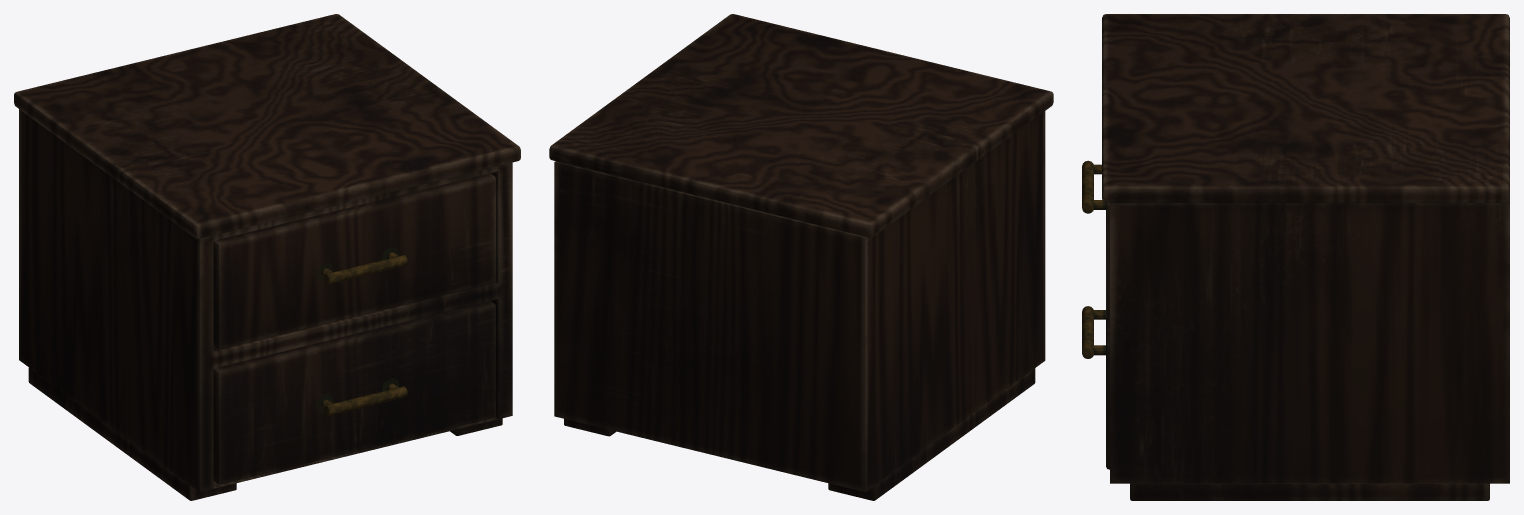
Rendered from attic_smallbox.glb.
3 views of the same model, side by side, from view 1: azimuth 30°, elevation 25°; view 2: azimuth 150°, elevation 25°; view 3: azimuth 270°, elevation 25° (orthographic). The views are drawn at different scales.
Visible parts, largest first — view 1: Body, Drawer0, Drawer1, Drawer1Pull, Drawer0Pull; view 2: Body; view 3: Body, Drawer0Pull, Drawer1Pull, Drawer0.
Boxes of the visible parts, bbox=[...] form: Body: bbox=[14, 14, 520, 500]; Drawer0: bbox=[213, 301, 495, 484]; Drawer1: bbox=[213, 173, 495, 349]; Drawer1Pull: bbox=[316, 246, 407, 284]; Drawer0Pull: bbox=[316, 378, 407, 415]; Body: bbox=[549, 14, 1053, 500]; Body: bbox=[1102, 14, 1509, 500]; Drawer0Pull: bbox=[1082, 306, 1105, 358]; Drawer1Pull: bbox=[1082, 160, 1105, 213]; Drawer0: bbox=[1106, 317, 1109, 469].
Size of the model in its own units: 0.416 by 0.35 by 0.428.
5 materials, 5 textured.
